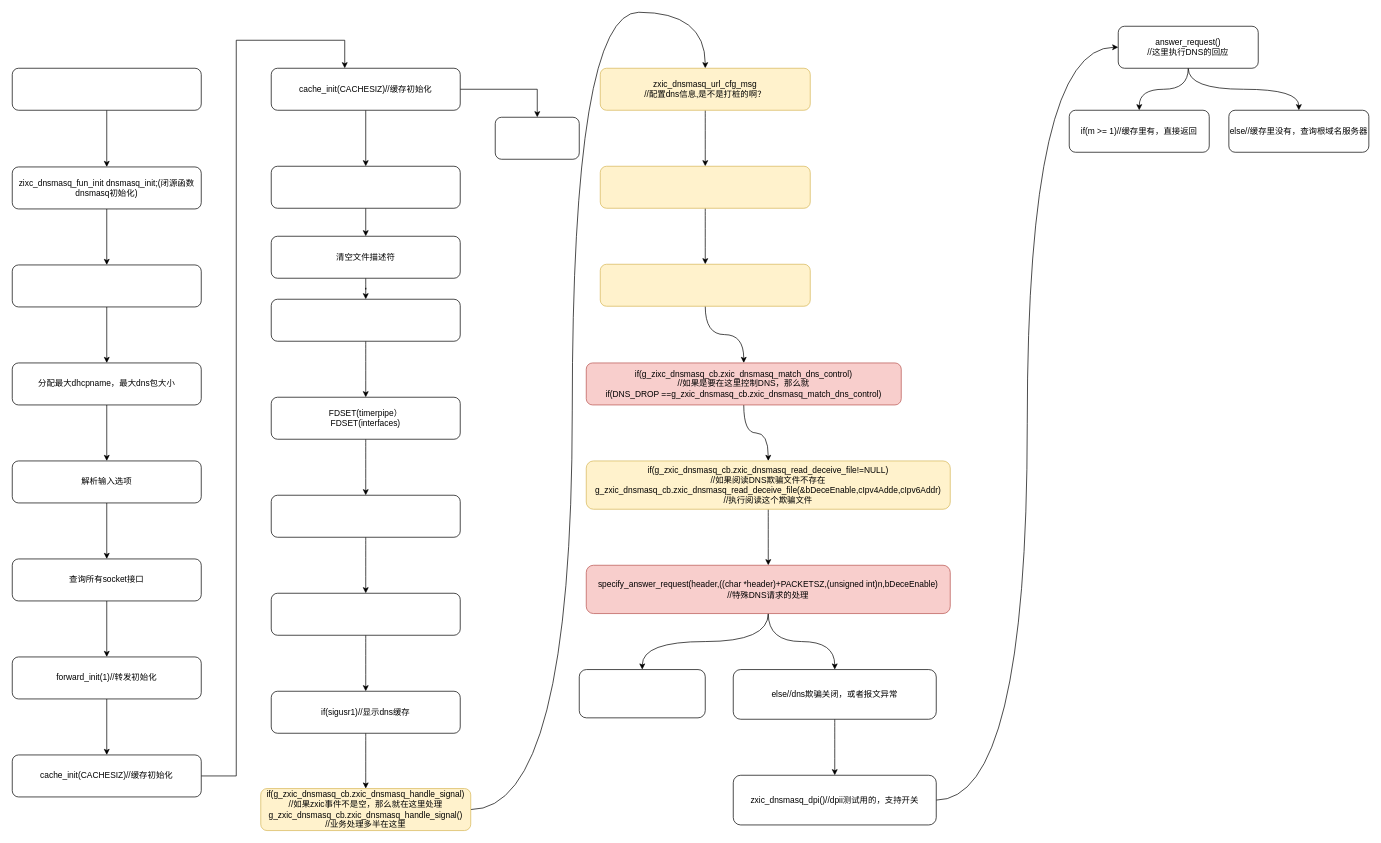
Image size: 1381x843. Some labels were removed from this diagram. Each missing label, with the box of its shape:
dnsmasq_is_zxic_plugin（判断是仅仅提供开源功能或者是增加定制功能）: (12, 264, 201, 307)
for(挨个挨个查看，触发的fd，然后执行相应的动作): (600, 264, 810, 306)
if(m>=1)//DNS欺骗: (579, 669, 705, 718)
if(select): (271, 495, 460, 537)
if(sighup)//缓存重置，: (271, 593, 460, 635)
zxic_dnsmasq_read_redirect_file() //晓不得干嘛的，后面再看下: (600, 166, 810, 208)
如果pipe(timerpipe)失败那就释放先前申请的内存，然后return-1: (495, 117, 579, 159)
定义数据，租约文件，用户名，if名，if地址，服务器结构体，resolvfilename，缓存大小，端口，: (12, 68, 201, 110)
进入循环: (271, 166, 460, 208)
重置文件描述符: (271, 299, 460, 341)
